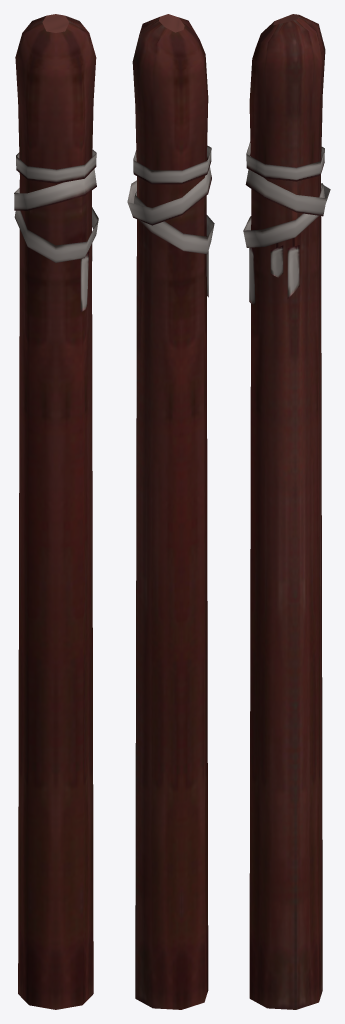
The model's file is PRP_Screen_End.FBX.
The picture shows the model from 3 angles, left to right: view 1: azimuth 90°, elevation 25°; view 2: azimuth 150°, elevation 25°; view 3: azimuth 330°, elevation 25°; orthographic projection.
Visible parts, largest first — view 1: PRP_Screen_End; view 2: PRP_Screen_End; view 3: PRP_Screen_End.
Boxes of the visible parts, box(x1,y1,x2,y2) form: PRP_Screen_End: box(14, 14, 98, 1009); PRP_Screen_End: box(127, 14, 214, 1009); PRP_Screen_End: box(243, 14, 330, 1009).
Bounding box in the file's own units: 34.49 × 429 × 33.75.
